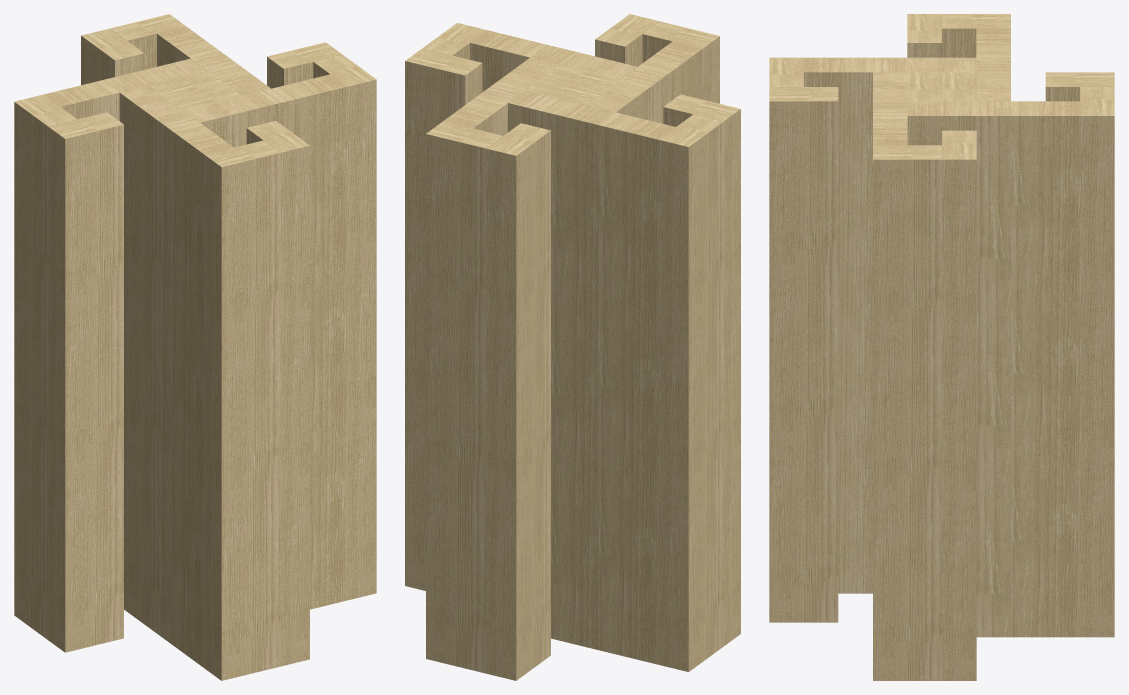
Rendered from plus30.glb.
The picture shows the model from 3 angles, left to right: view 1: azimuth 30°, elevation 25°; view 2: azimuth 150°, elevation 25°; view 3: azimuth 270°, elevation 25°; orthographic projection. The views are drawn at different scales.
Parts seen in each view (by area): view 1: Geom3D (×19); view 2: Geom3D (×19); view 3: Geom3D (×16).
Part boxes in pixels (left/top/right/bottom): Geom3D (×19): left=14, top=14, right=376, bottom=680; Geom3D (×19): left=405, top=14, right=740, bottom=680; Geom3D (×16): left=769, top=14, right=1114, bottom=680.
Bounding box in the file's own units: 0.18 × 0.3 × 0.18.
1 material, 1 textured.
